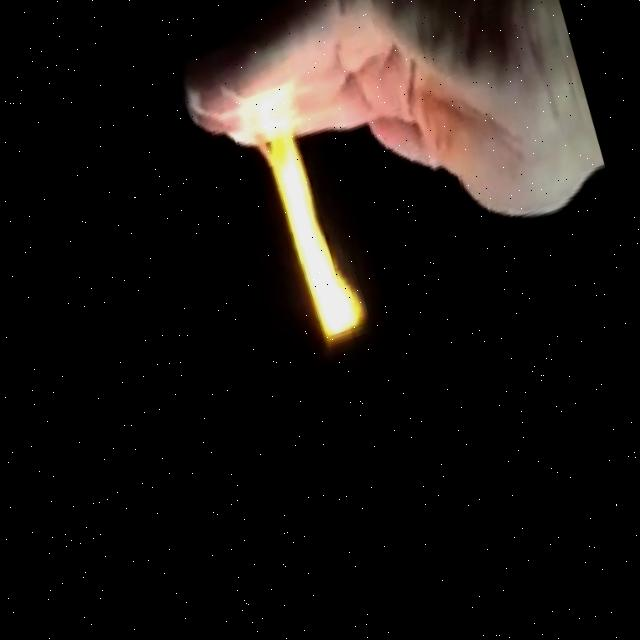Fire: (221, 70, 398, 371)
